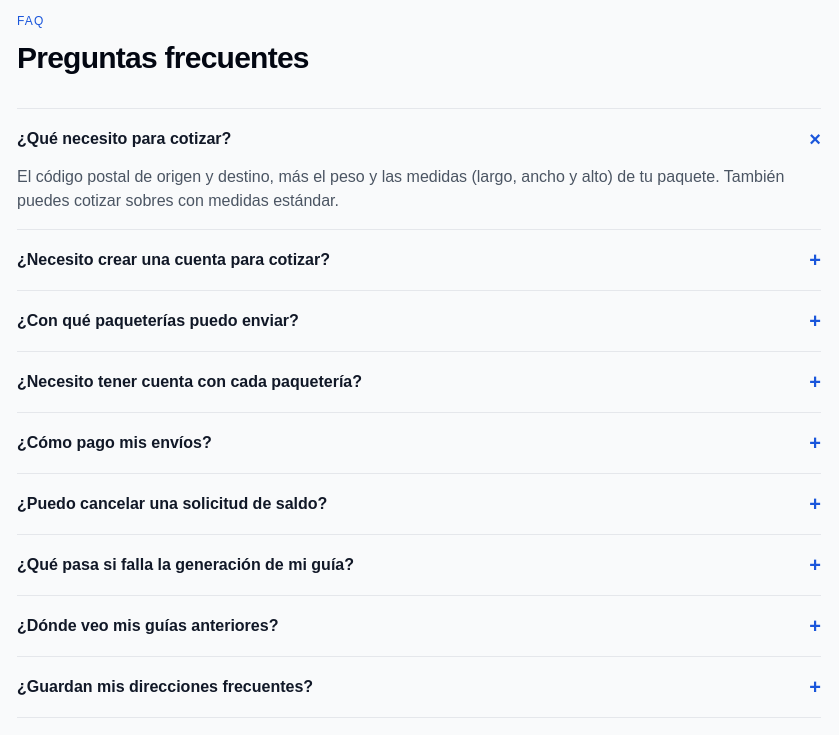
Test: LandingFaq › opens a second question and closes the first one, keeping only one open at a time
Click the button "¿Necesito crear una cuenta para cotizar?" at (174, 260), box 17,246 -> 821,274
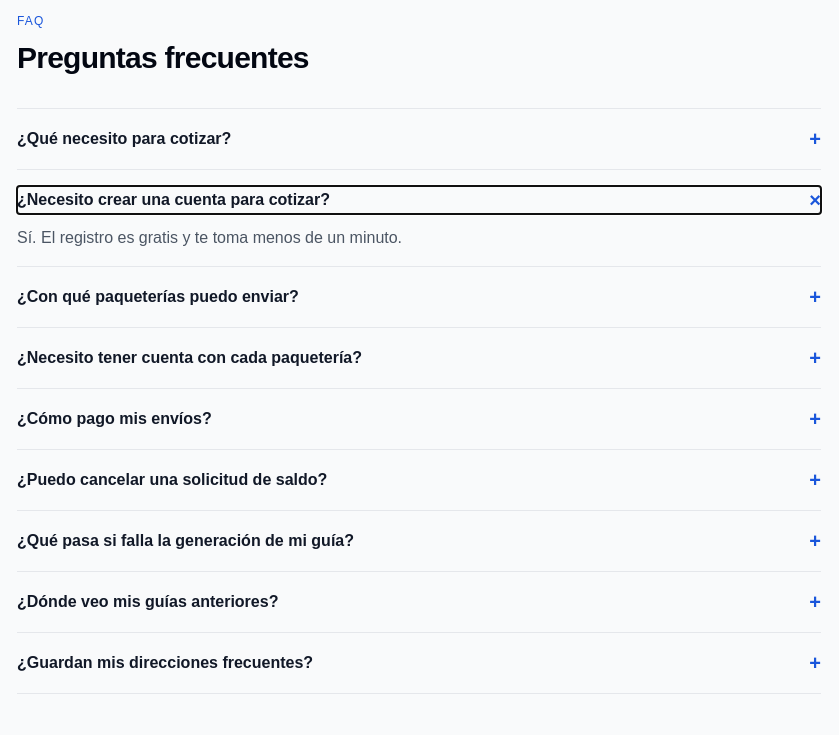
expect the button "¿Necesito crear una cuenta para cotizar?" is expanded: met, box 17,186 -> 821,214
expect the text "Sí. El registro es gratis y te toma menos de un minuto." is shown: met, box 17,229 -> 402,246
expect the button "¿Qué necesito para cotizar? +" is collapsed: met, box 17,125 -> 821,153
